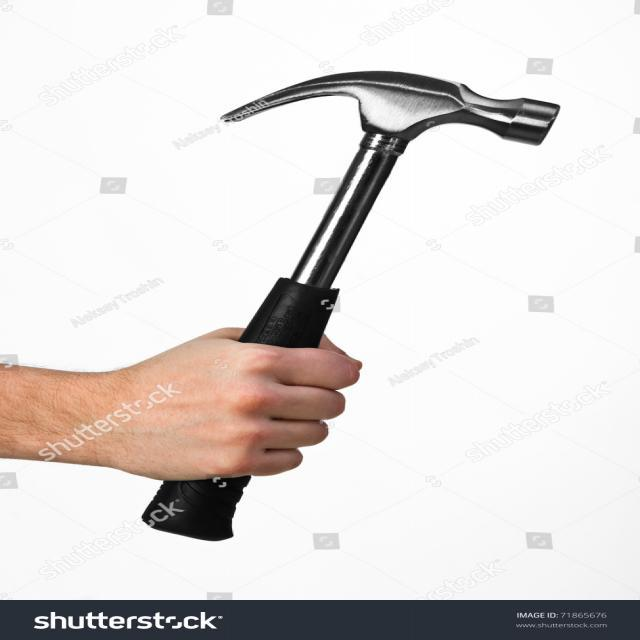hammer: (122, 68, 563, 546)
